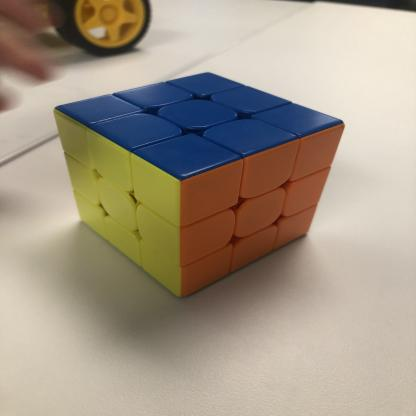SolvedCube: (46, 70, 358, 301)
